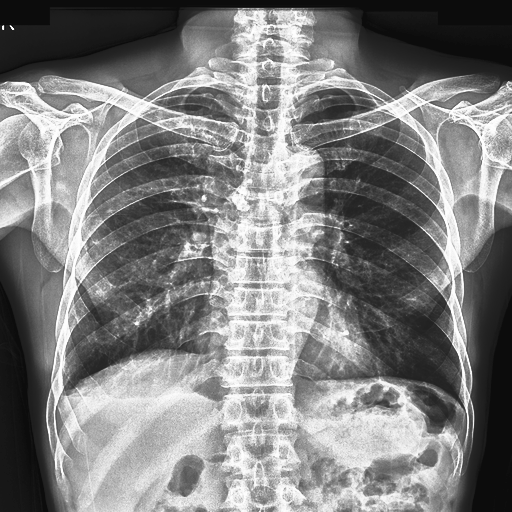Calcification: (51, 384, 88, 412), (59, 388, 72, 400)
Consolidation: (211, 147, 326, 265), (272, 142, 325, 201)
Pleural effusion: (57, 376, 78, 410), (59, 388, 72, 400)
Pleural thickening: (73, 97, 232, 354), (323, 123, 441, 366)
Pneumothorax: (150, 196, 219, 214), (78, 238, 103, 250), (103, 208, 122, 214)
